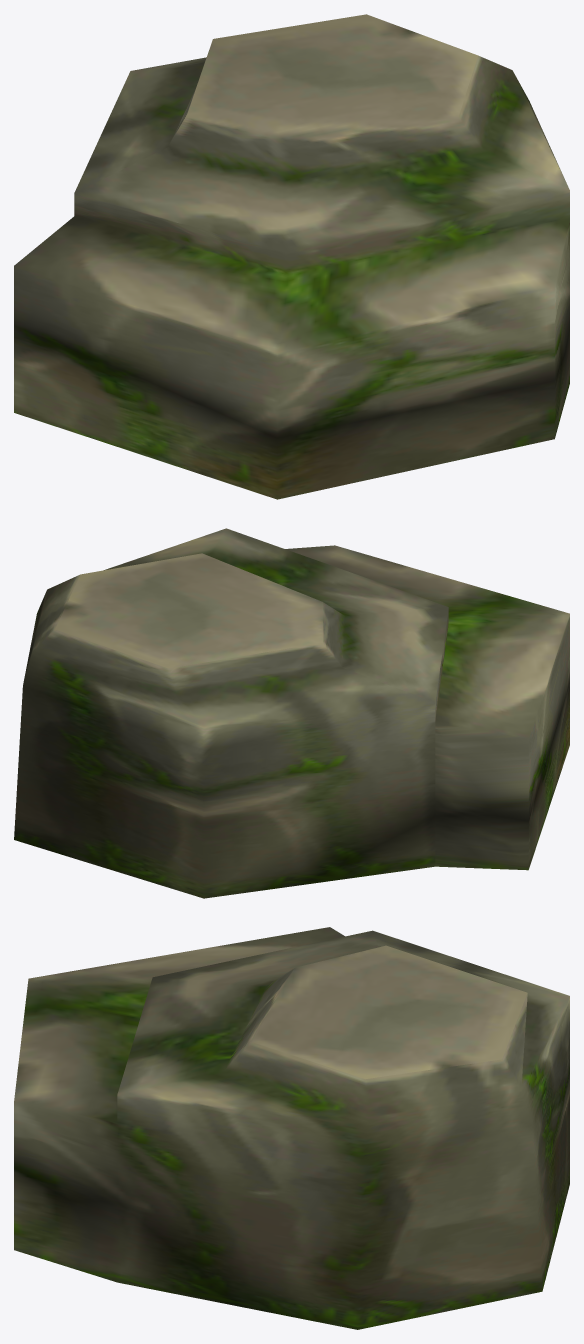
The model's file is RockFormation_4_5 (5).fbx.
The picture shows the model from 3 angles, top to bottom: view 1: azimuth 30°, elevation 25°; view 2: azimuth 150°, elevation 25°; view 3: azimuth 270°, elevation 25°; orthographic projection. The views are drawn at different scales.
Visible parts, largest first — view 1: RockFormation_4_5 (5); view 2: RockFormation_4_5 (5); view 3: RockFormation_4_5 (5).
Boxes of the visible parts, x1,y1,x2,y2 form: RockFormation_4_5 (5): [14, 14, 569, 499]; RockFormation_4_5 (5): [14, 528, 569, 898]; RockFormation_4_5 (5): [14, 927, 569, 1329].
Size of the model in its own units: 340 by 134 by 307.
